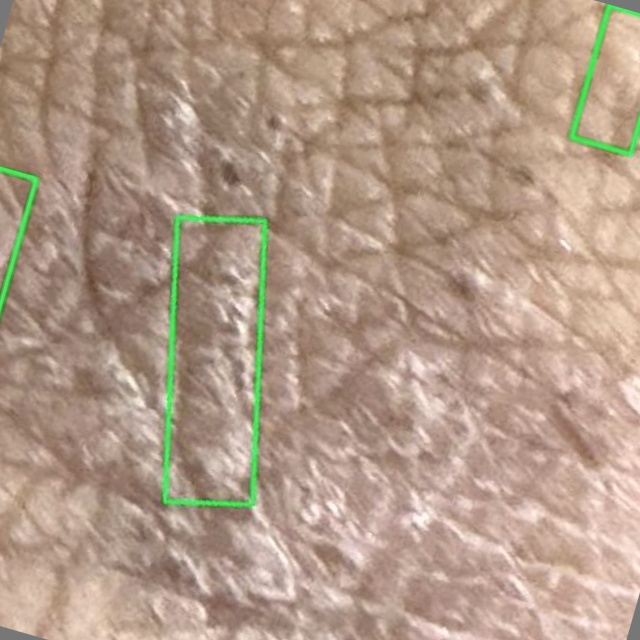Scabies: (165, 218, 265, 506), (571, 5, 639, 154)
